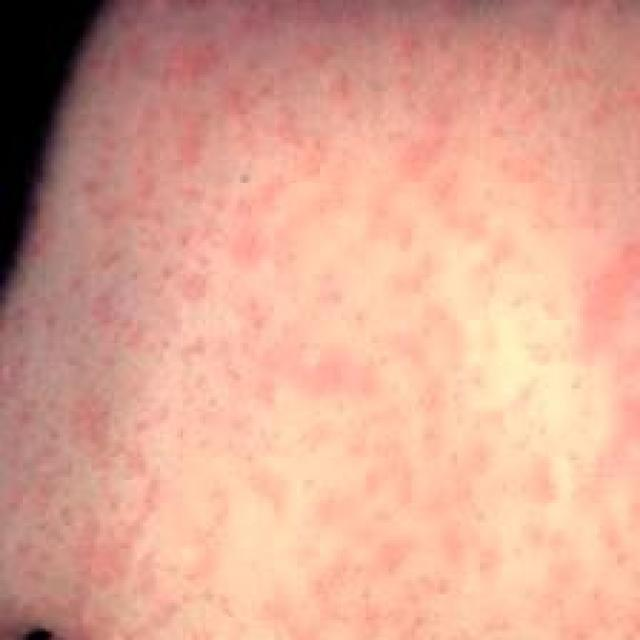others: (105, 0, 628, 623)
